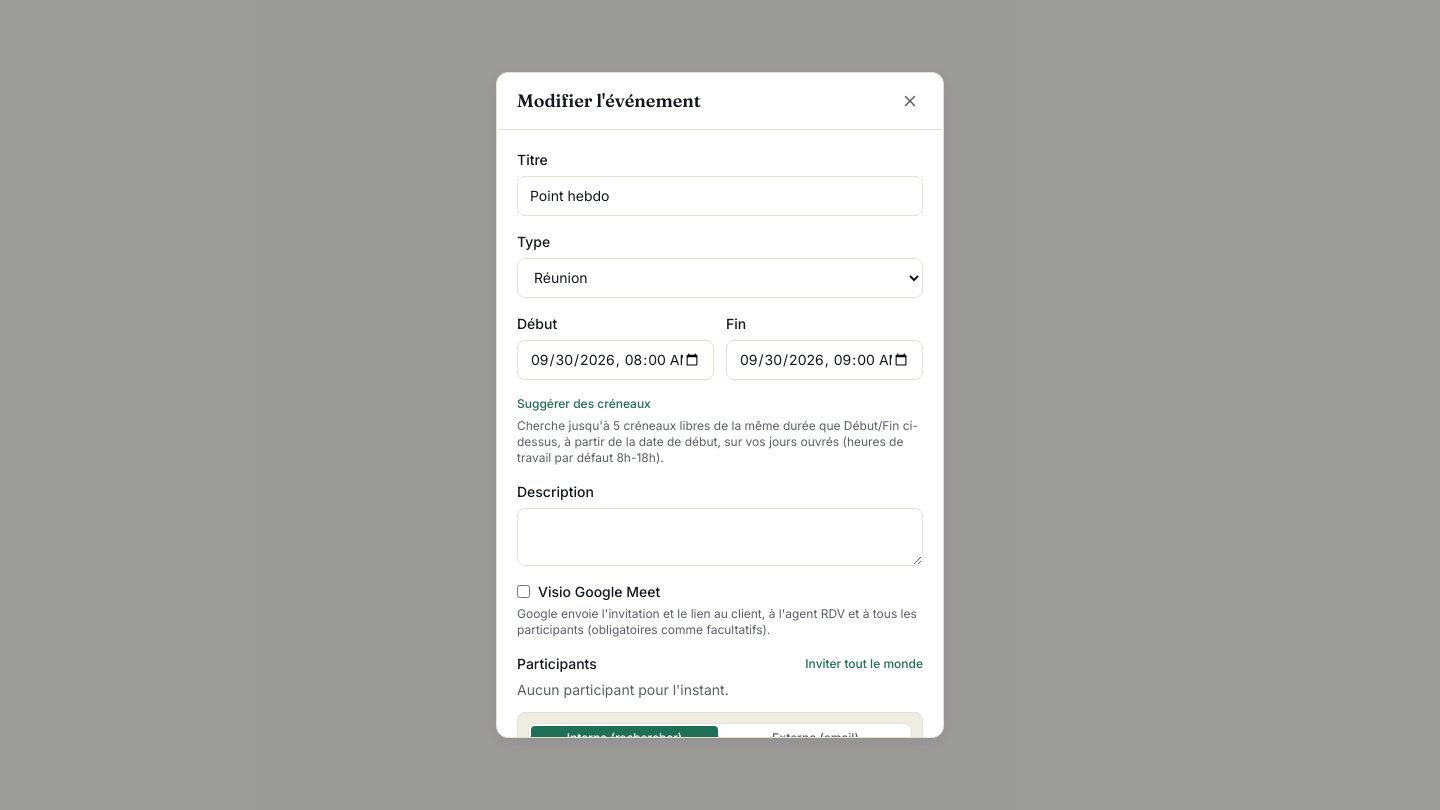
Test: §6.25 lot D — EventPanel › champ principal modifié (titre) : confirmation
Replace the text in the field labelled "Titre" with "Point mensuel" at (720,196), box [517,176,923,216]
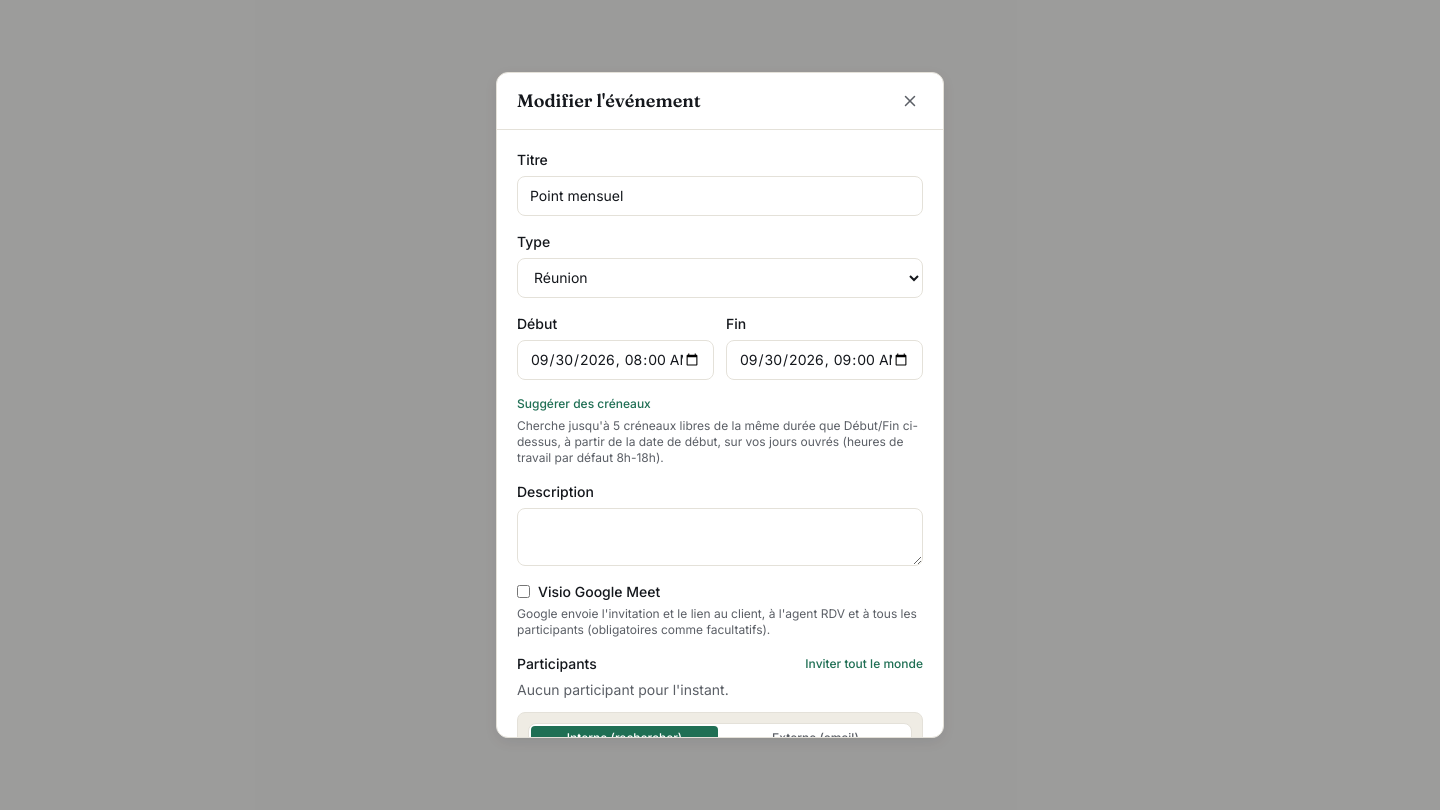
Click the button named "Fermer" at (910,101), box [897,88,923,114]
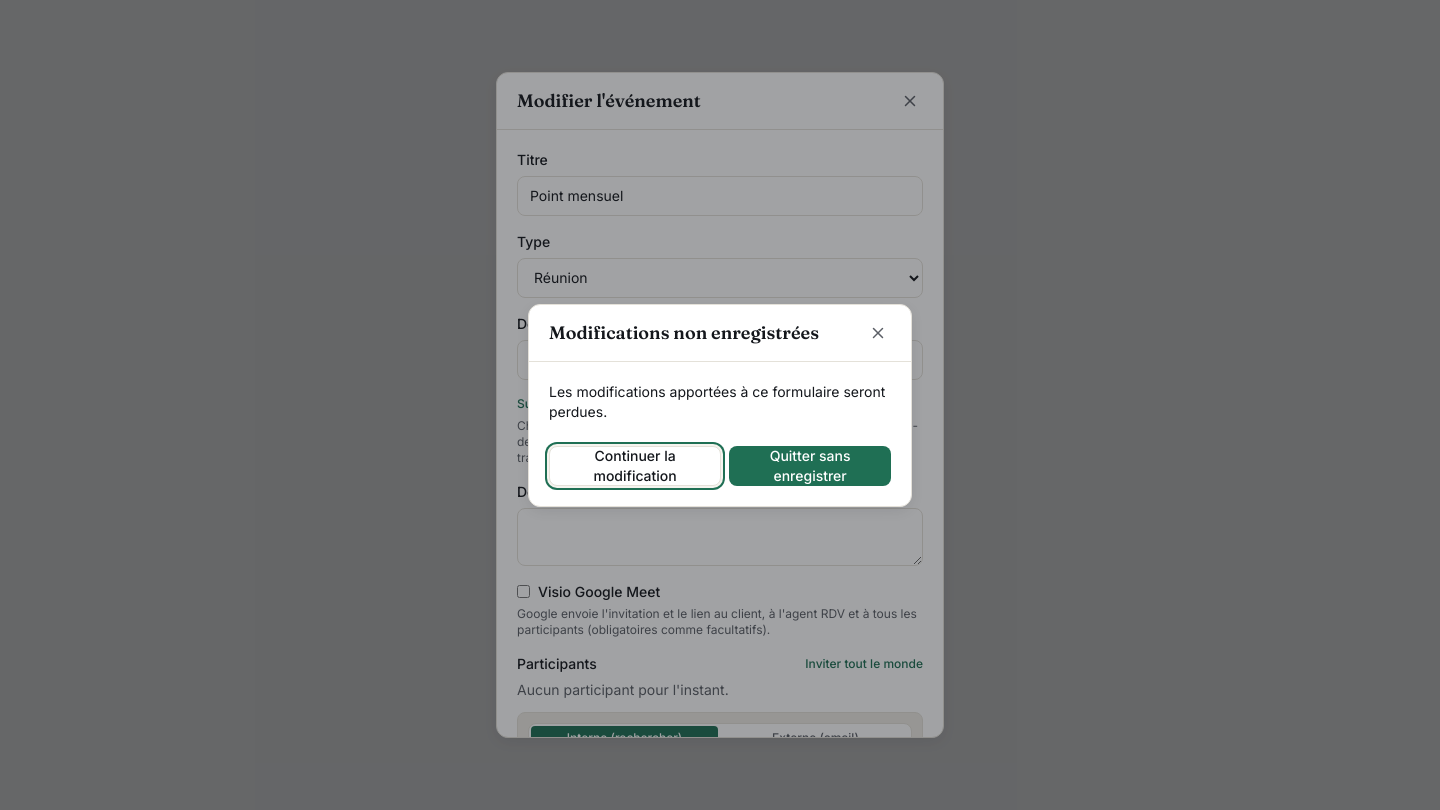
Expected: the heading "Modifications non enregistrées" is shown, [549,318,819,346]
